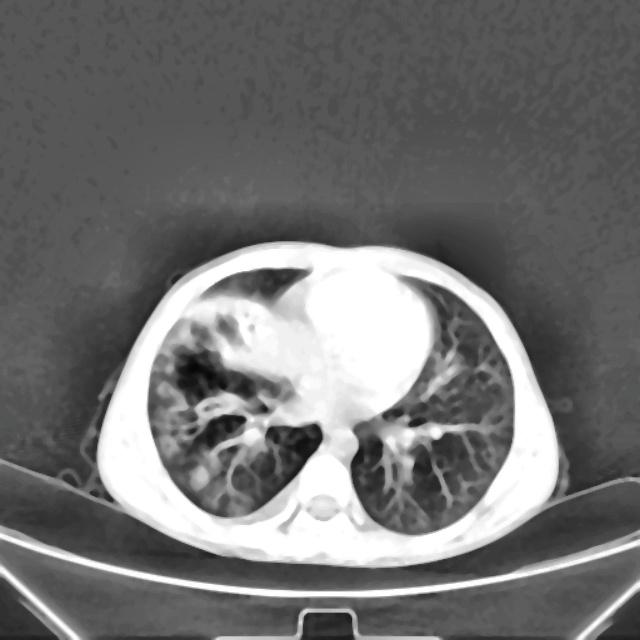covid: (94, 238, 568, 568)
